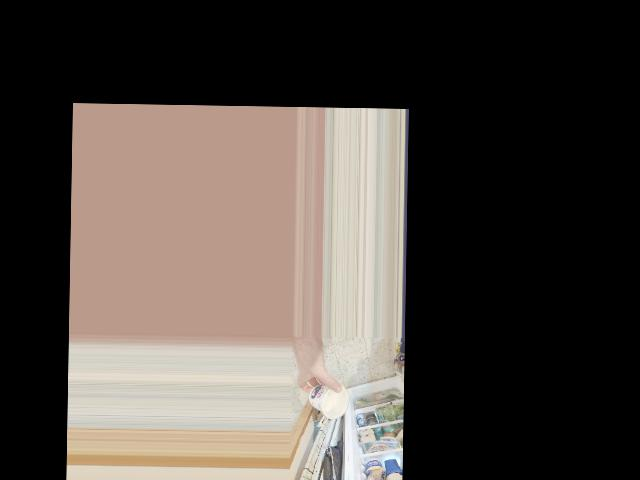cotage: (307, 380, 349, 423)
